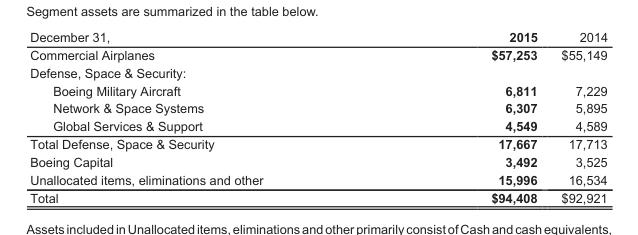table: (29, 29, 607, 204)
table column: (29, 29, 376, 204), (376, 29, 548, 204), (548, 29, 607, 204)
table column header: (29, 29, 607, 45)
table projected row header: (29, 63, 607, 81)
table row: (29, 45, 607, 63), (29, 63, 607, 81), (29, 81, 607, 99), (29, 116, 607, 134), (29, 134, 607, 152), (29, 152, 607, 170), (29, 170, 607, 188), (29, 99, 607, 116), (29, 29, 607, 45), (29, 188, 607, 204)
